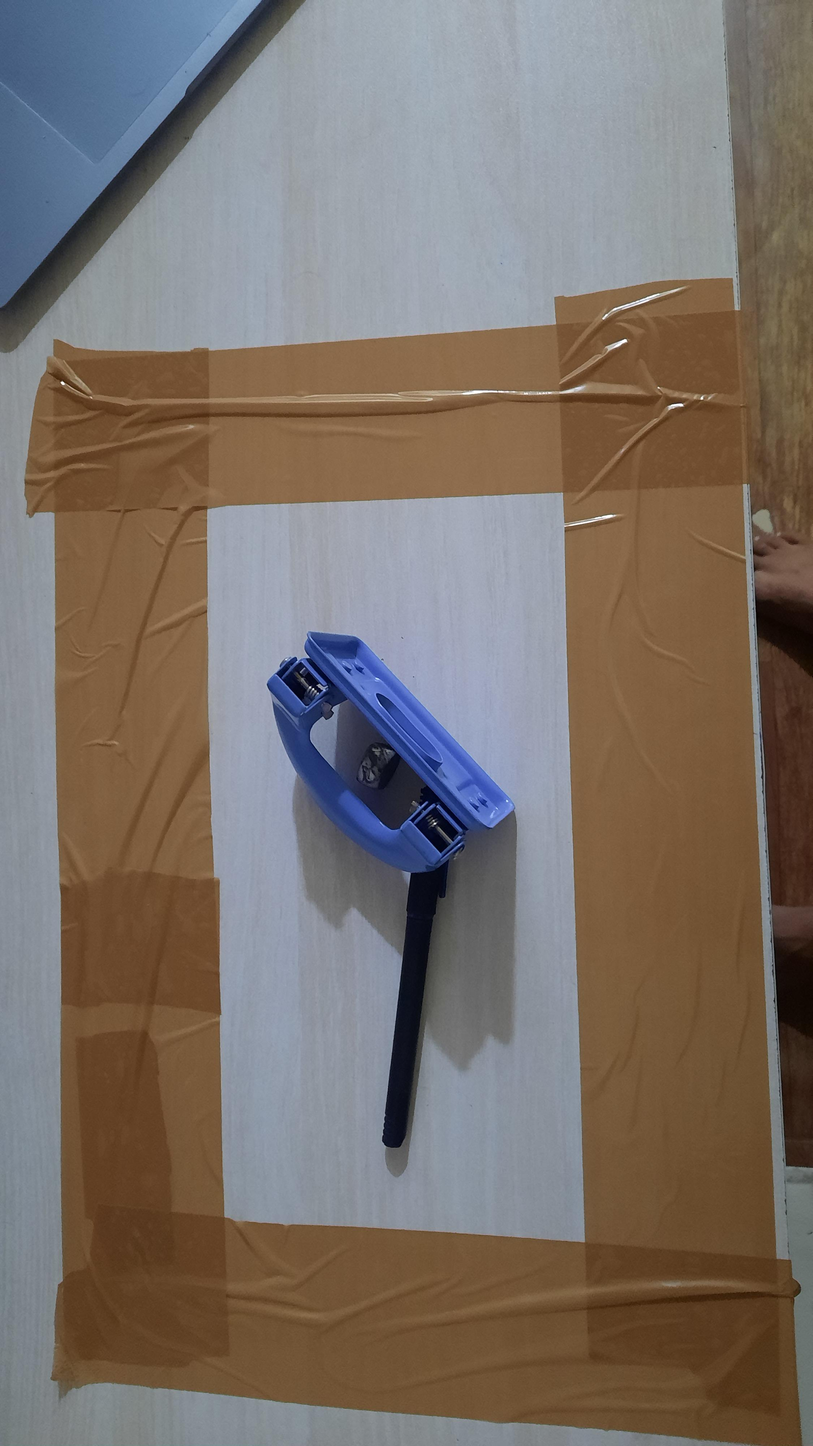Eraser: (356, 742, 399, 790)
Pen: (382, 851, 451, 1149)
Punch: (267, 630, 516, 875)
